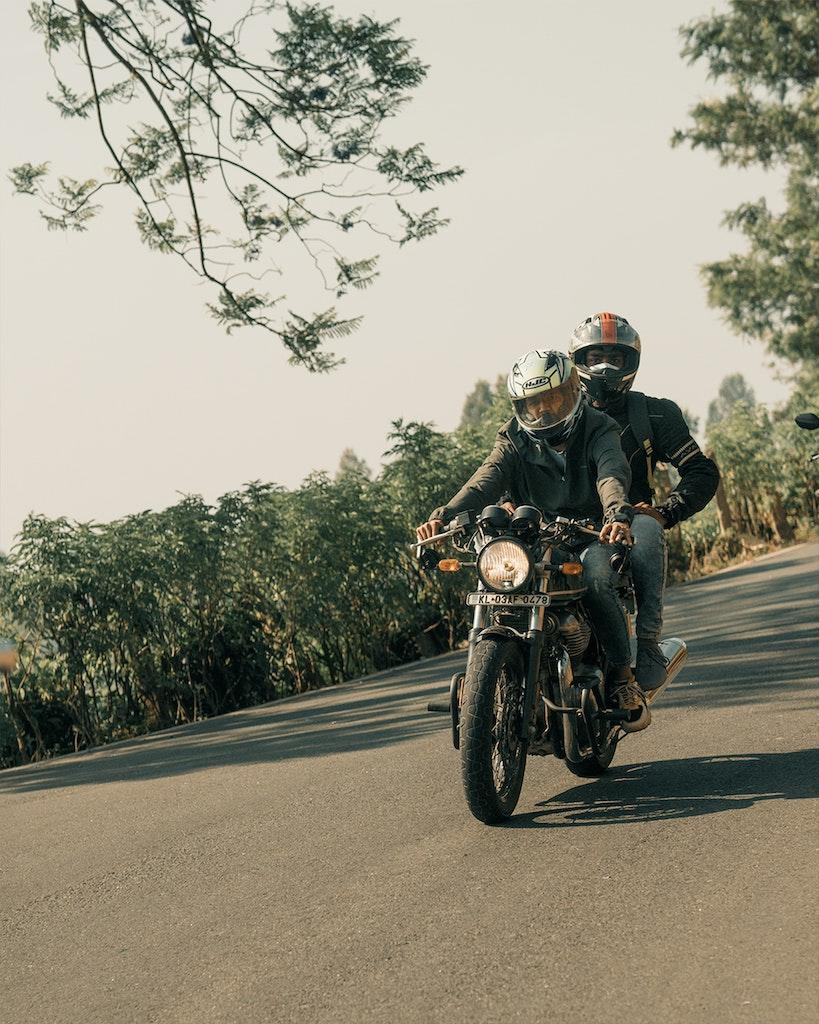helmet: (506, 346, 584, 444), (567, 311, 642, 405)
